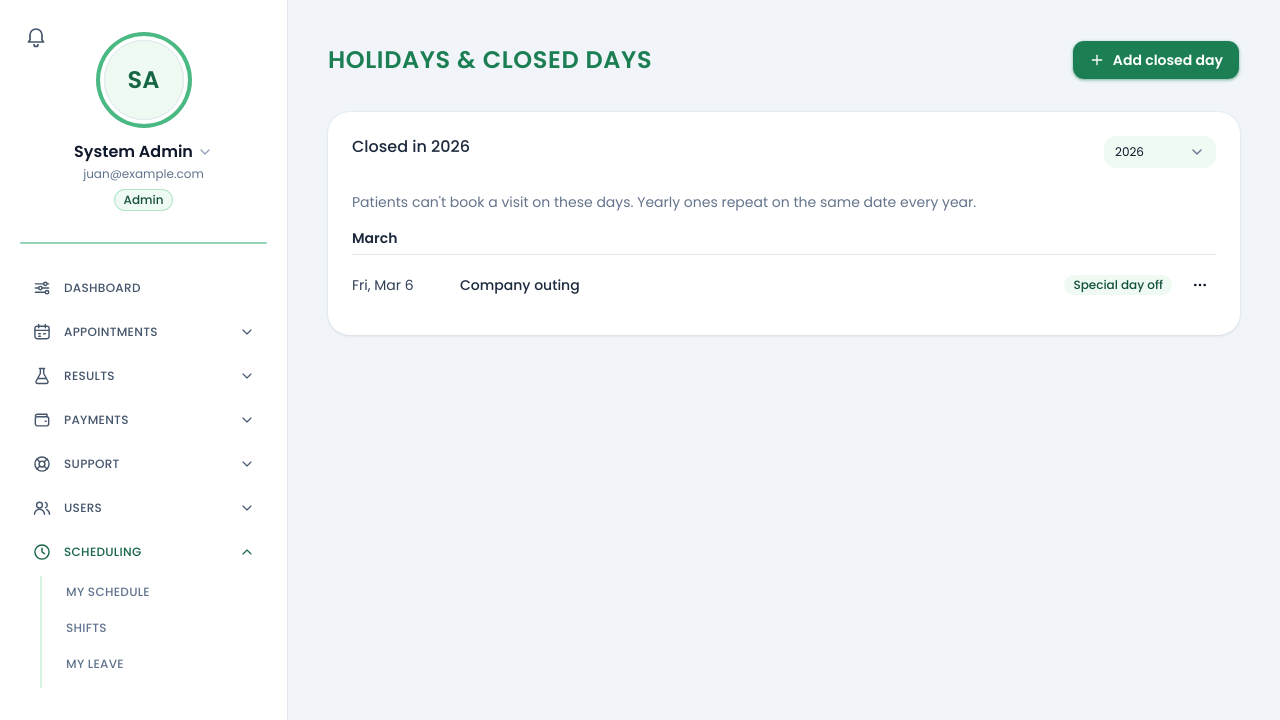
Test case: HolidaysPage › removes a closed day after confirming
Click the button named "Actions for Company outing". click: (1200, 285)
box: [1184, 269, 1216, 301]
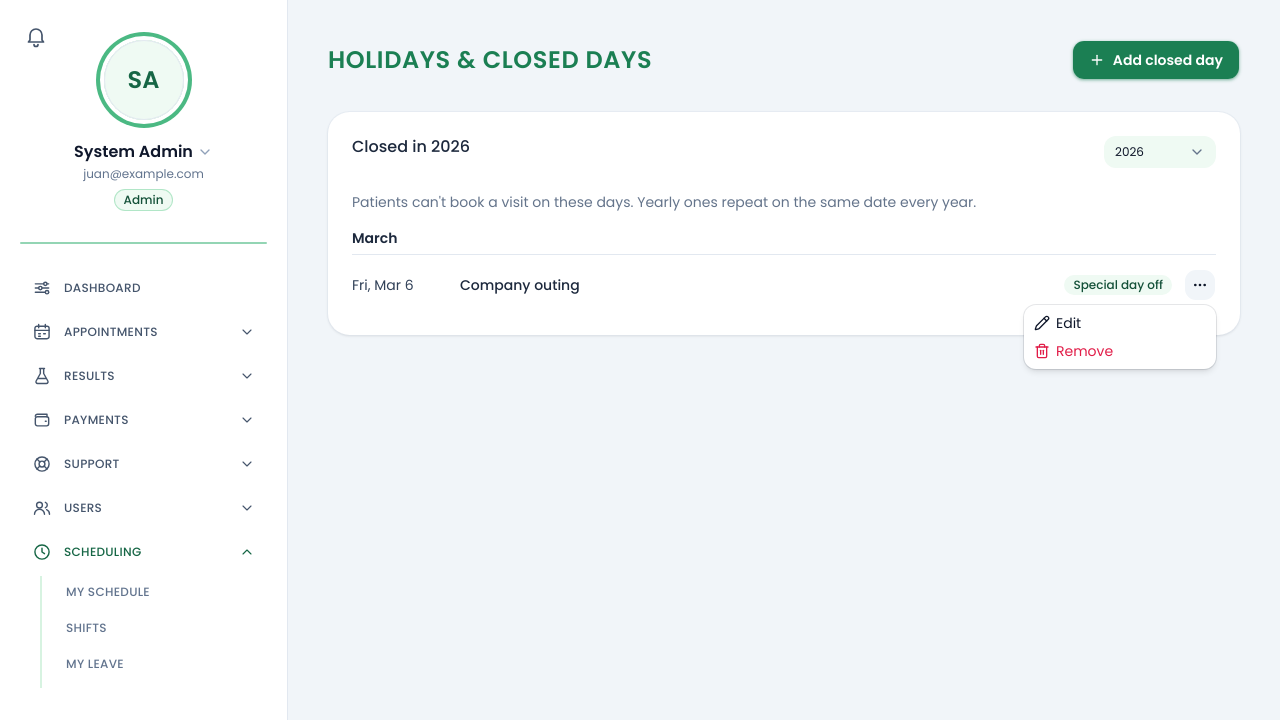
Click the menu item "Remove". click: (1074, 351)
box: [1034, 341, 1113, 361]
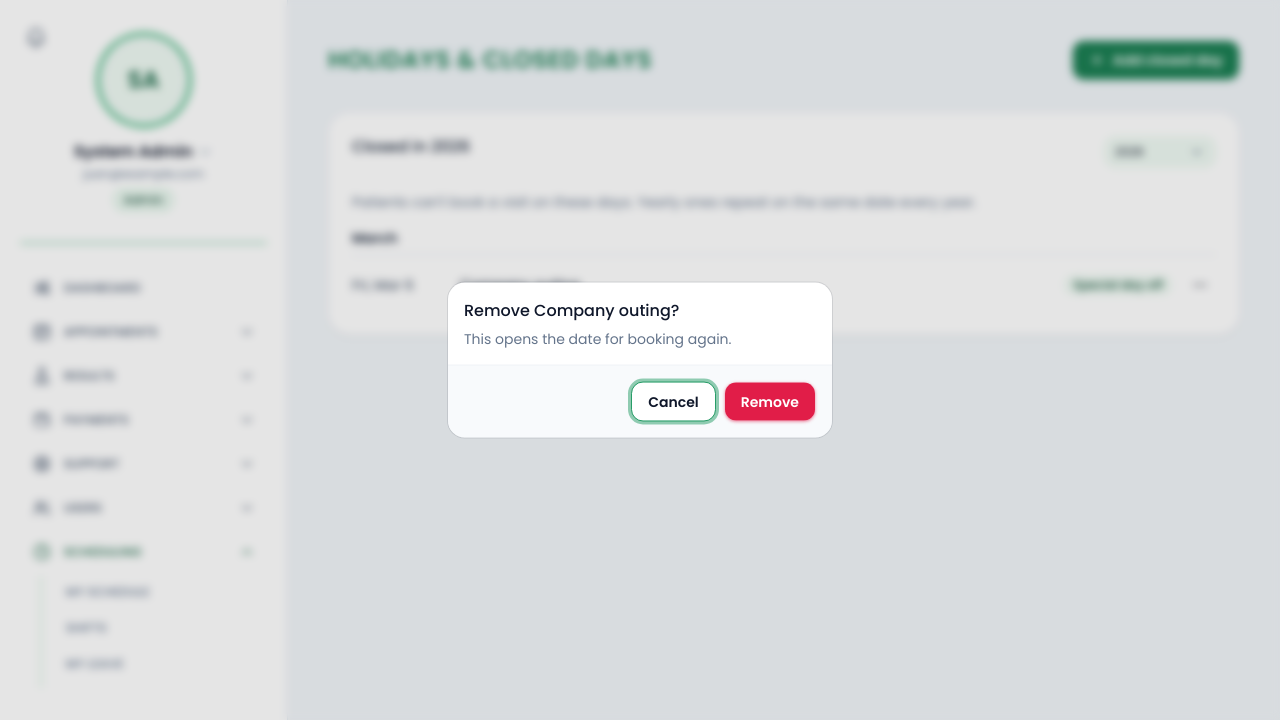
Click the button "Remove". click: (770, 402)
box: [724, 382, 816, 422]
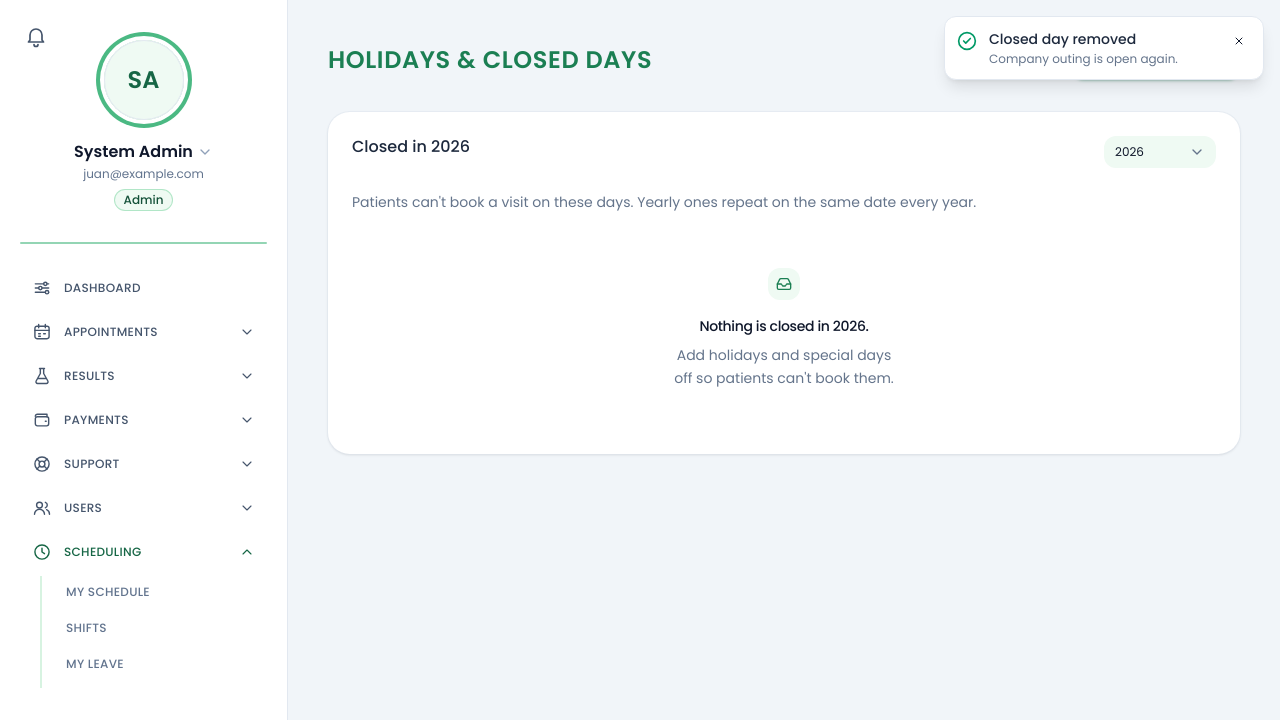
Now the text "Closed day removed" is shown, box [989, 29, 1136, 49]
